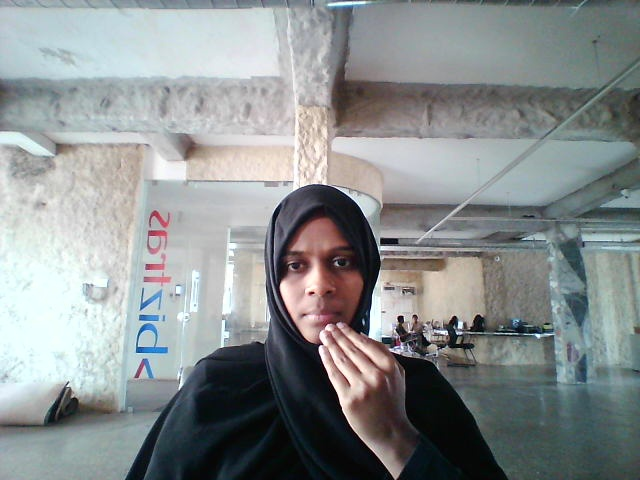THANKS: (293, 315, 444, 461)
